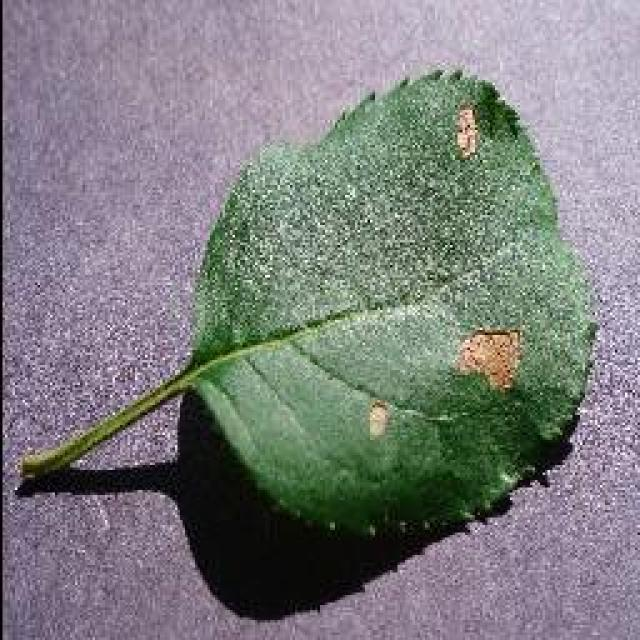Black_rot: (18, 62, 600, 542)
